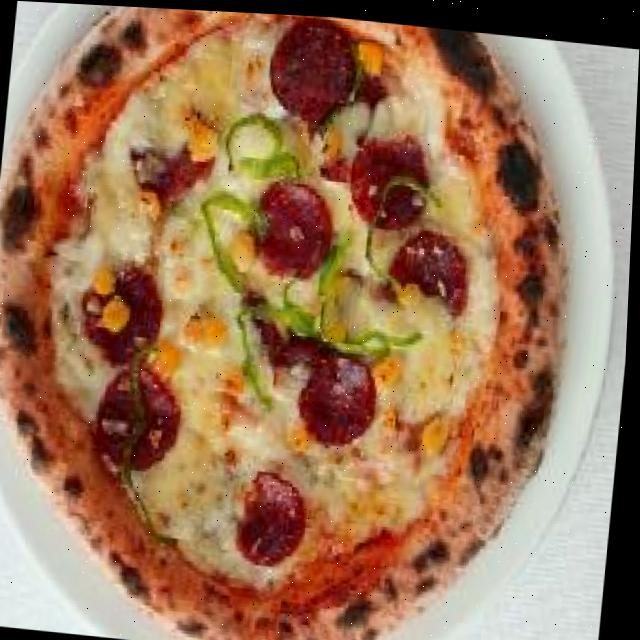汉堡快餐: (0, 0, 593, 640)
